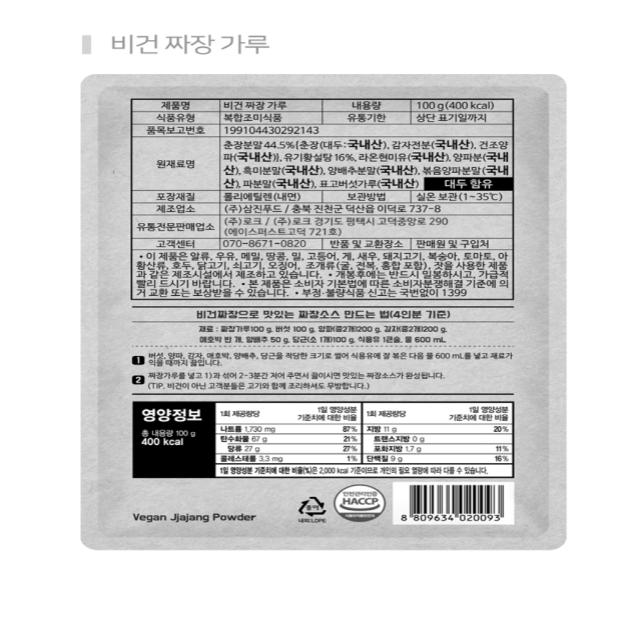Nutrition Label: (115, 399, 544, 481)
